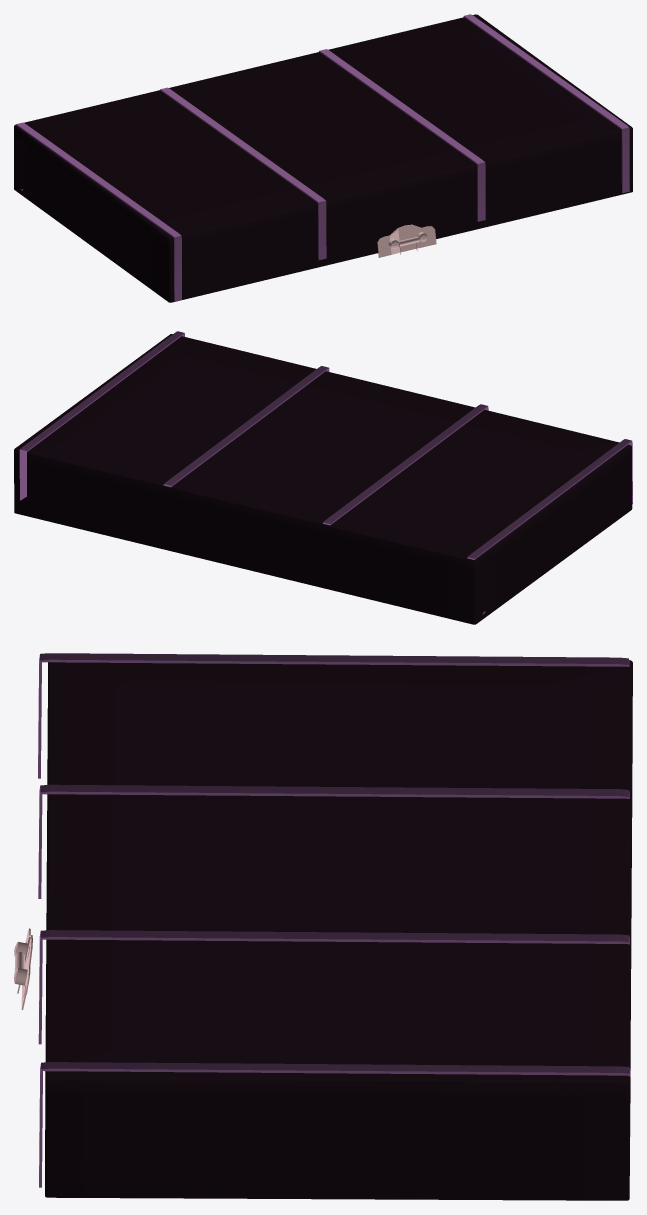
Rendered from tapa.obj.
3 views of the same model, one above another, from view 1: azimuth 30°, elevation 25°; view 2: azimuth 150°, elevation 25°; view 3: azimuth 270°, elevation 25° (orthographic). The views are drawn at different scales.
Parts seen in each view (by area): view 1: polySurface111; view 2: polySurface111; view 3: polySurface111.
Part boxes in pixels (<box>): polySurface111: <box>14,14,632,302</box>; polySurface111: <box>14,331,632,624</box>; polySurface111: <box>14,653,632,1200</box>.
Bounding box in the file's own units: 2.04 × 0.2921 × 1.27.
